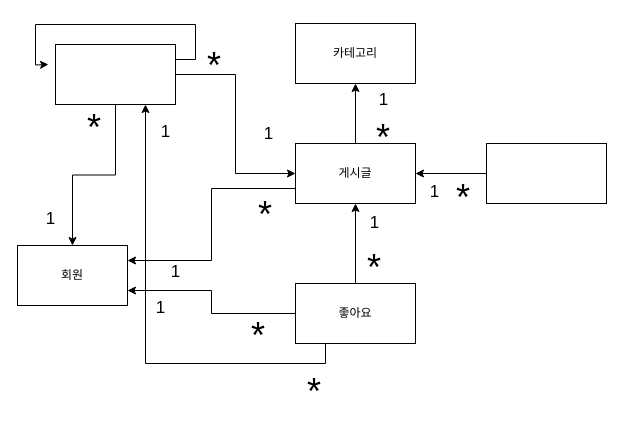
Some shapes in this 624 by 430 pixel diagram are drawn without their labels. The box of each missing label's shape, as (x1, y1, x2, y2) in pixels:
댓글: (54, 44, 176, 104)
첨부파일: (486, 142, 606, 204)
